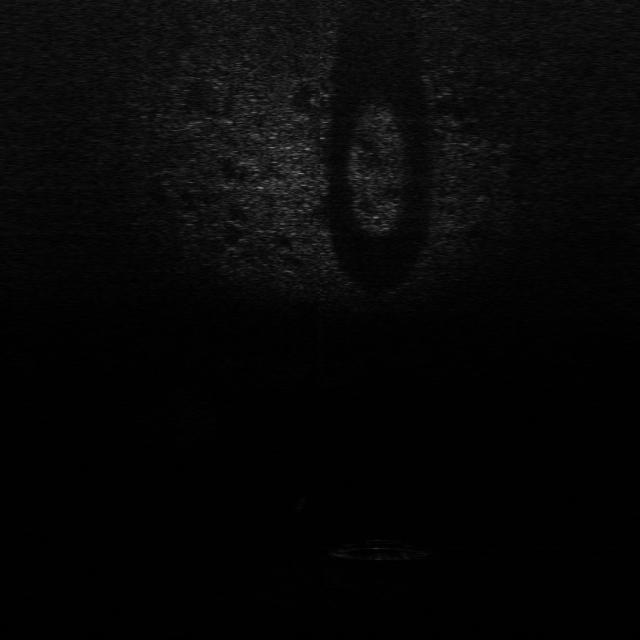tyre: (327, 534, 434, 564)
